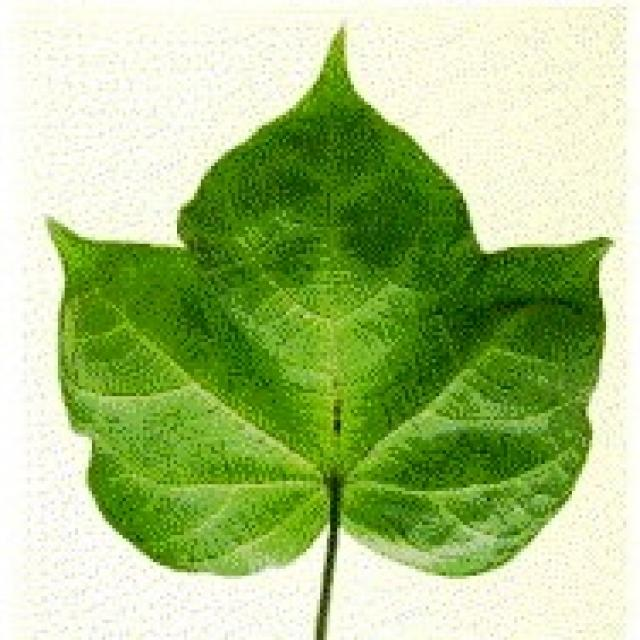Leaf Curl Virus: (182, 207, 504, 475)
